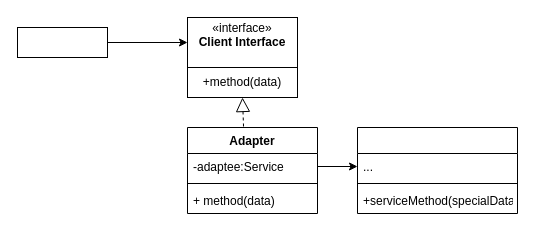
This 535x234 diagram has some shape labels left out. Each missing label, with the box of its shape:
Classname: (356, 126, 518, 214)
Client: (16, 26, 108, 58)
